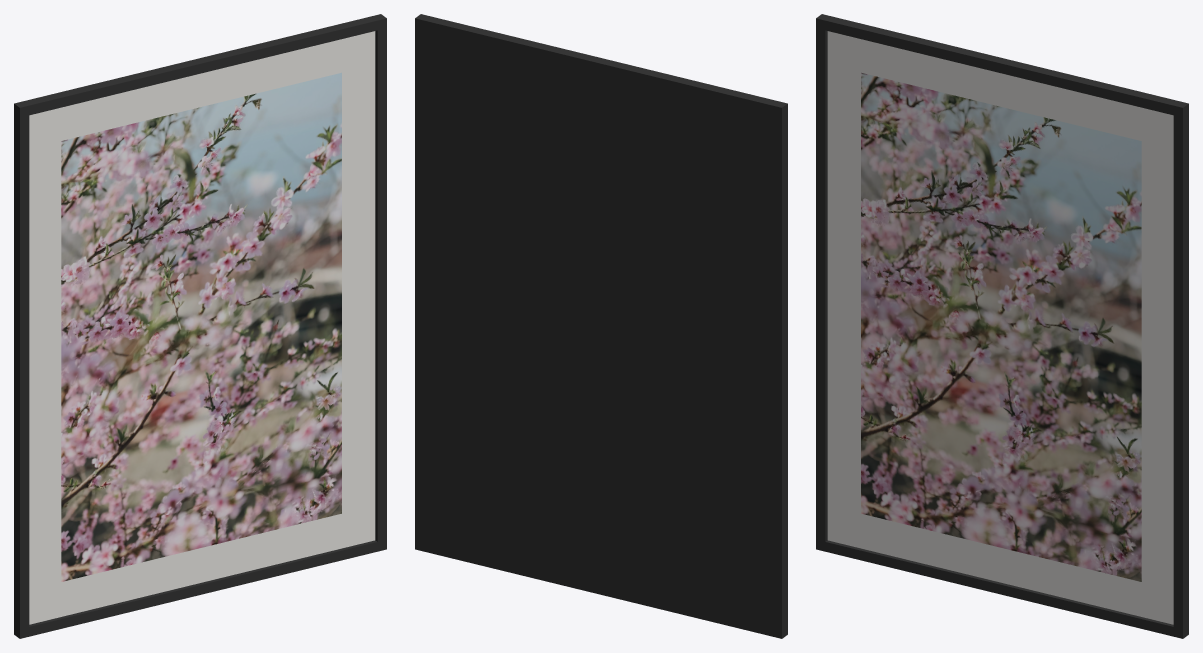
Rendered from korsbarsblom-90.gltf.
3 renders of one model, left to right at view 1: azimuth 30°, elevation 25°; view 2: azimuth 150°, elevation 25°; view 3: azimuth 330°, elevation 25°, orthographic.
Parts seen in each view (by area): view 1: tavla; view 2: tavla; view 3: tavla.
Boxes of the visible parts, bbox=[...] form: tavla: bbox=[14, 14, 386, 638]; tavla: bbox=[415, 14, 787, 638]; tavla: bbox=[816, 14, 1188, 638].
Bounding box in the file's own units: 0.784 × 1.08 × 0.022.
3 materials, 1 textured.
